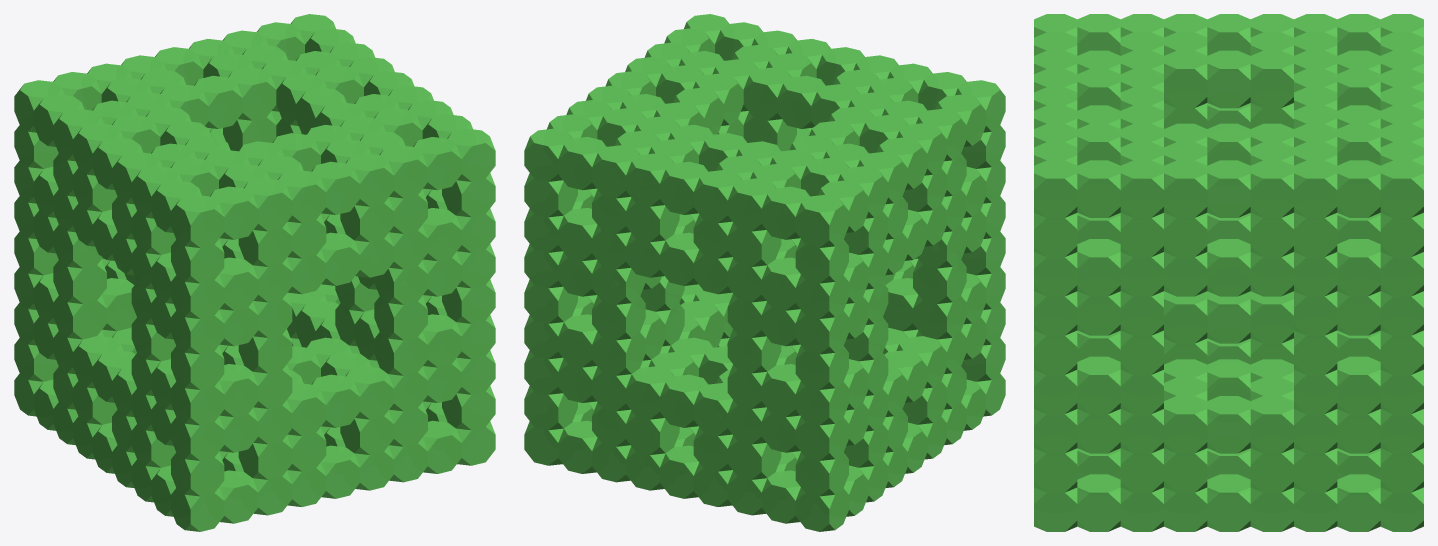
File: fractaltruncatedcube1-2.glb
3 renders of one model, left to right at view 1: azimuth 30°, elevation 25°; view 2: azimuth 150°, elevation 25°; view 3: azimuth 270°, elevation 25°, orthographic. The views are drawn at different scales.
Bounding box in the file's own units: 7.19 × 7.19 × 7.19.
